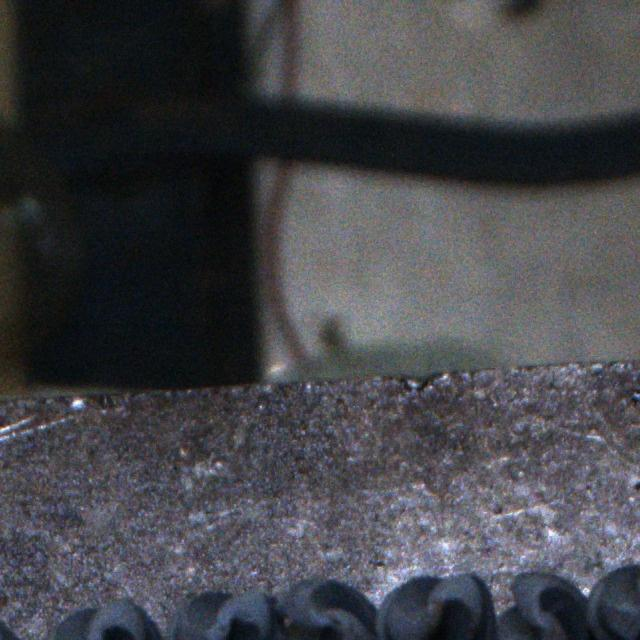tool_b: (372, 572, 493, 640), (488, 571, 592, 640), (273, 578, 383, 640), (168, 589, 282, 640)
